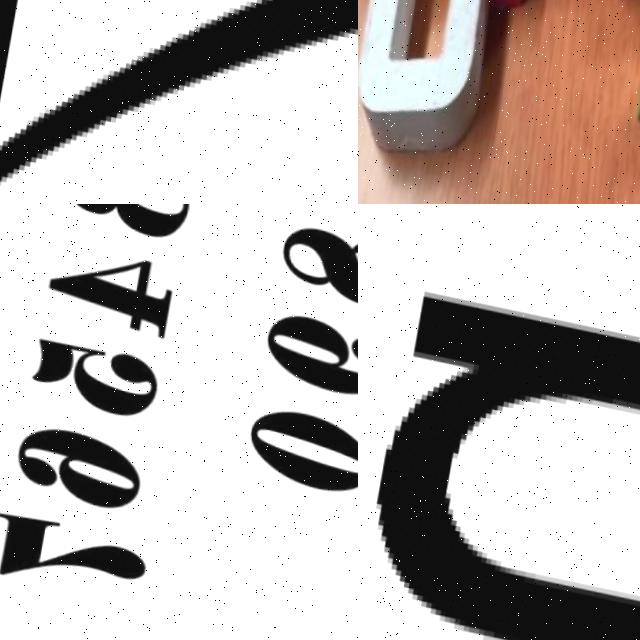0: (225, 379, 358, 500)
3: (49, 204, 200, 242)
4: (36, 220, 188, 337)
5: (12, 309, 176, 426)
6: (3, 399, 161, 523)
7: (0, 0, 358, 204), (0, 487, 170, 621)
8: (263, 204, 358, 312)
9: (235, 275, 358, 400)
N: (358, 271, 640, 640)
Q: (358, 0, 517, 163)
